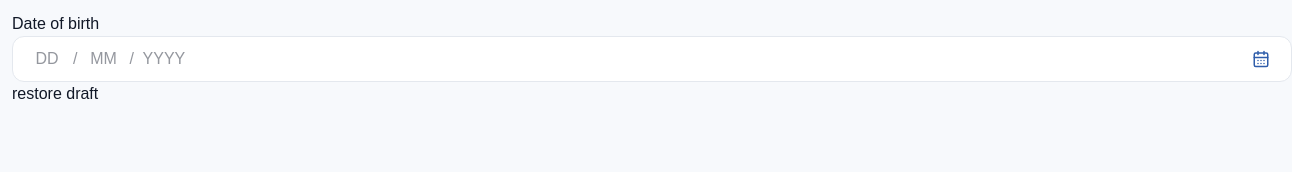
Test: DateField — typing › Backspace in an empty segment goes back and deletes there
Type "1406" into the field labelled "Date of birth". click: (47, 59)
box: [25,37,69,81]
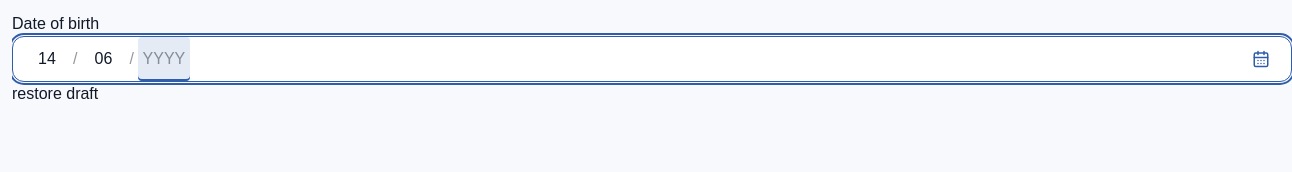
Press Backspace
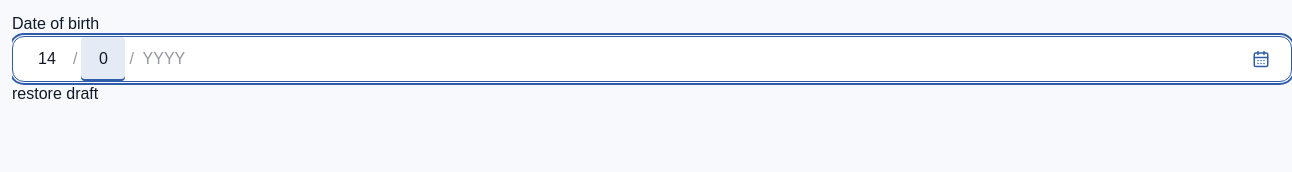
expect the field named "Date of birth, month" holds "0": met, box [82,37,126,81]
